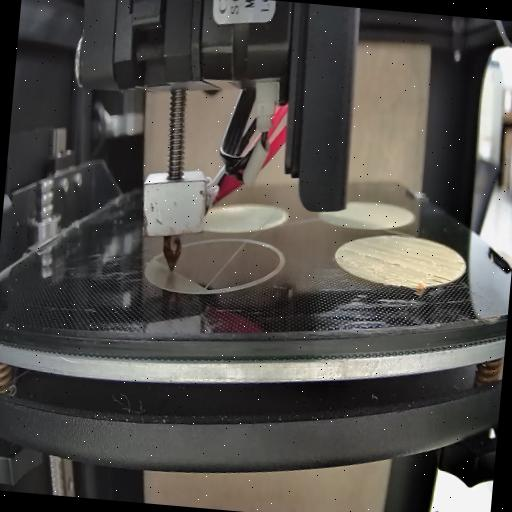under_extrusion: (345, 248, 404, 268), (422, 270, 450, 290), (451, 256, 464, 269)
